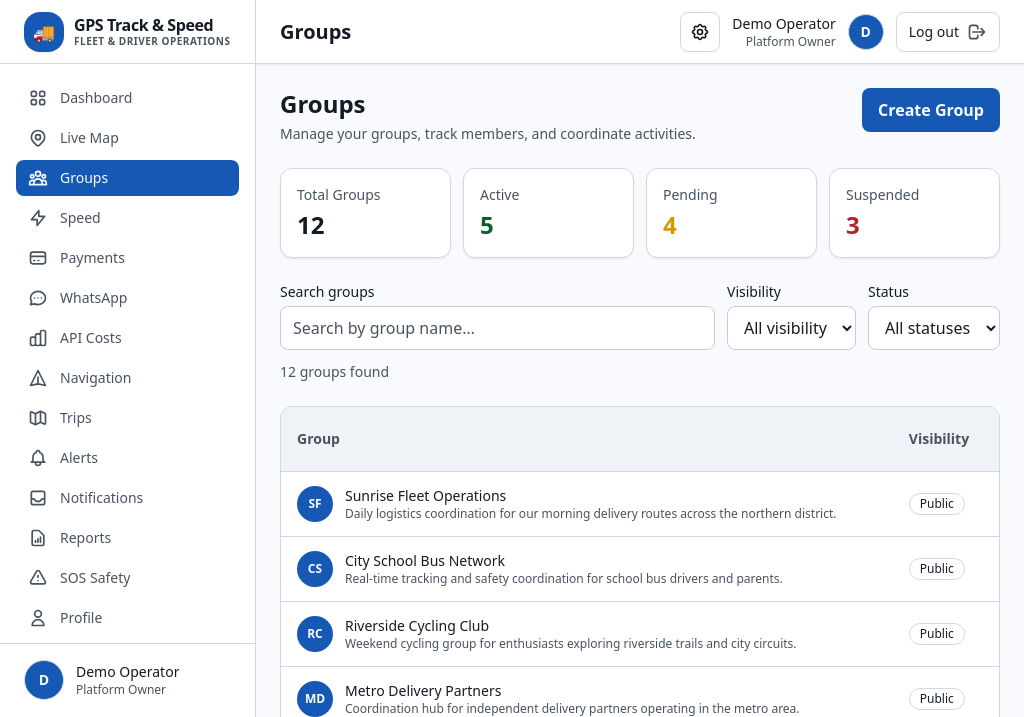
Test case: GroupsPage › filters groups by status — pending
The width and height of the screenshot is (1024, 717).
Select "Pending" in the dropdown named "filter by status" at point(934, 328), box [868,306,1000,350]
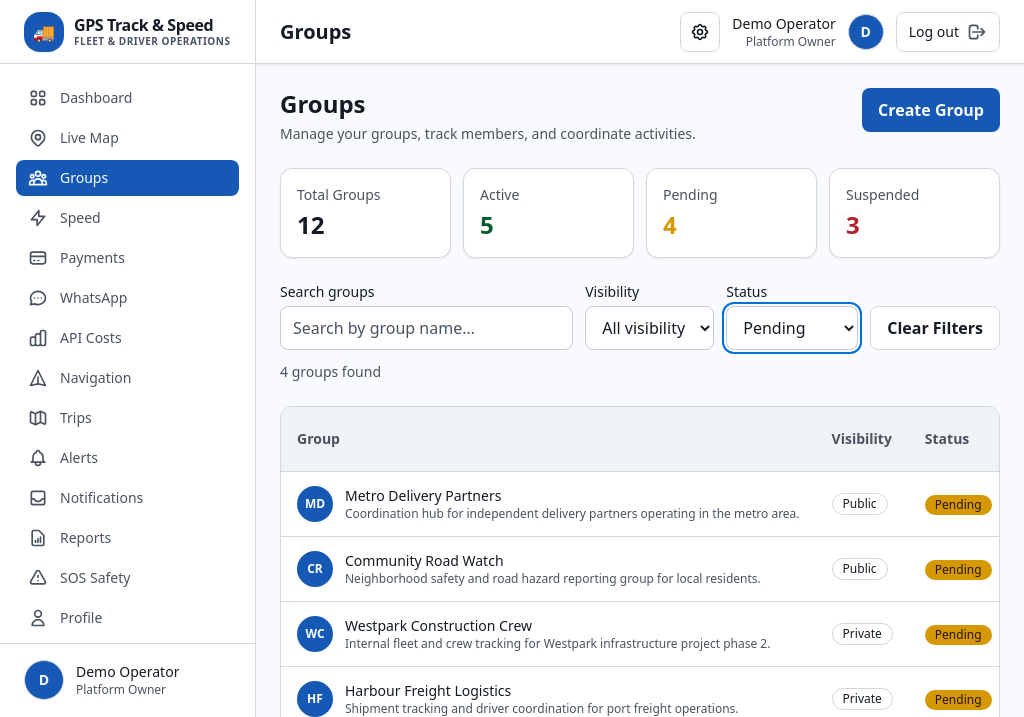
Check: the button "Sunrise Fleet Operations" is gone
